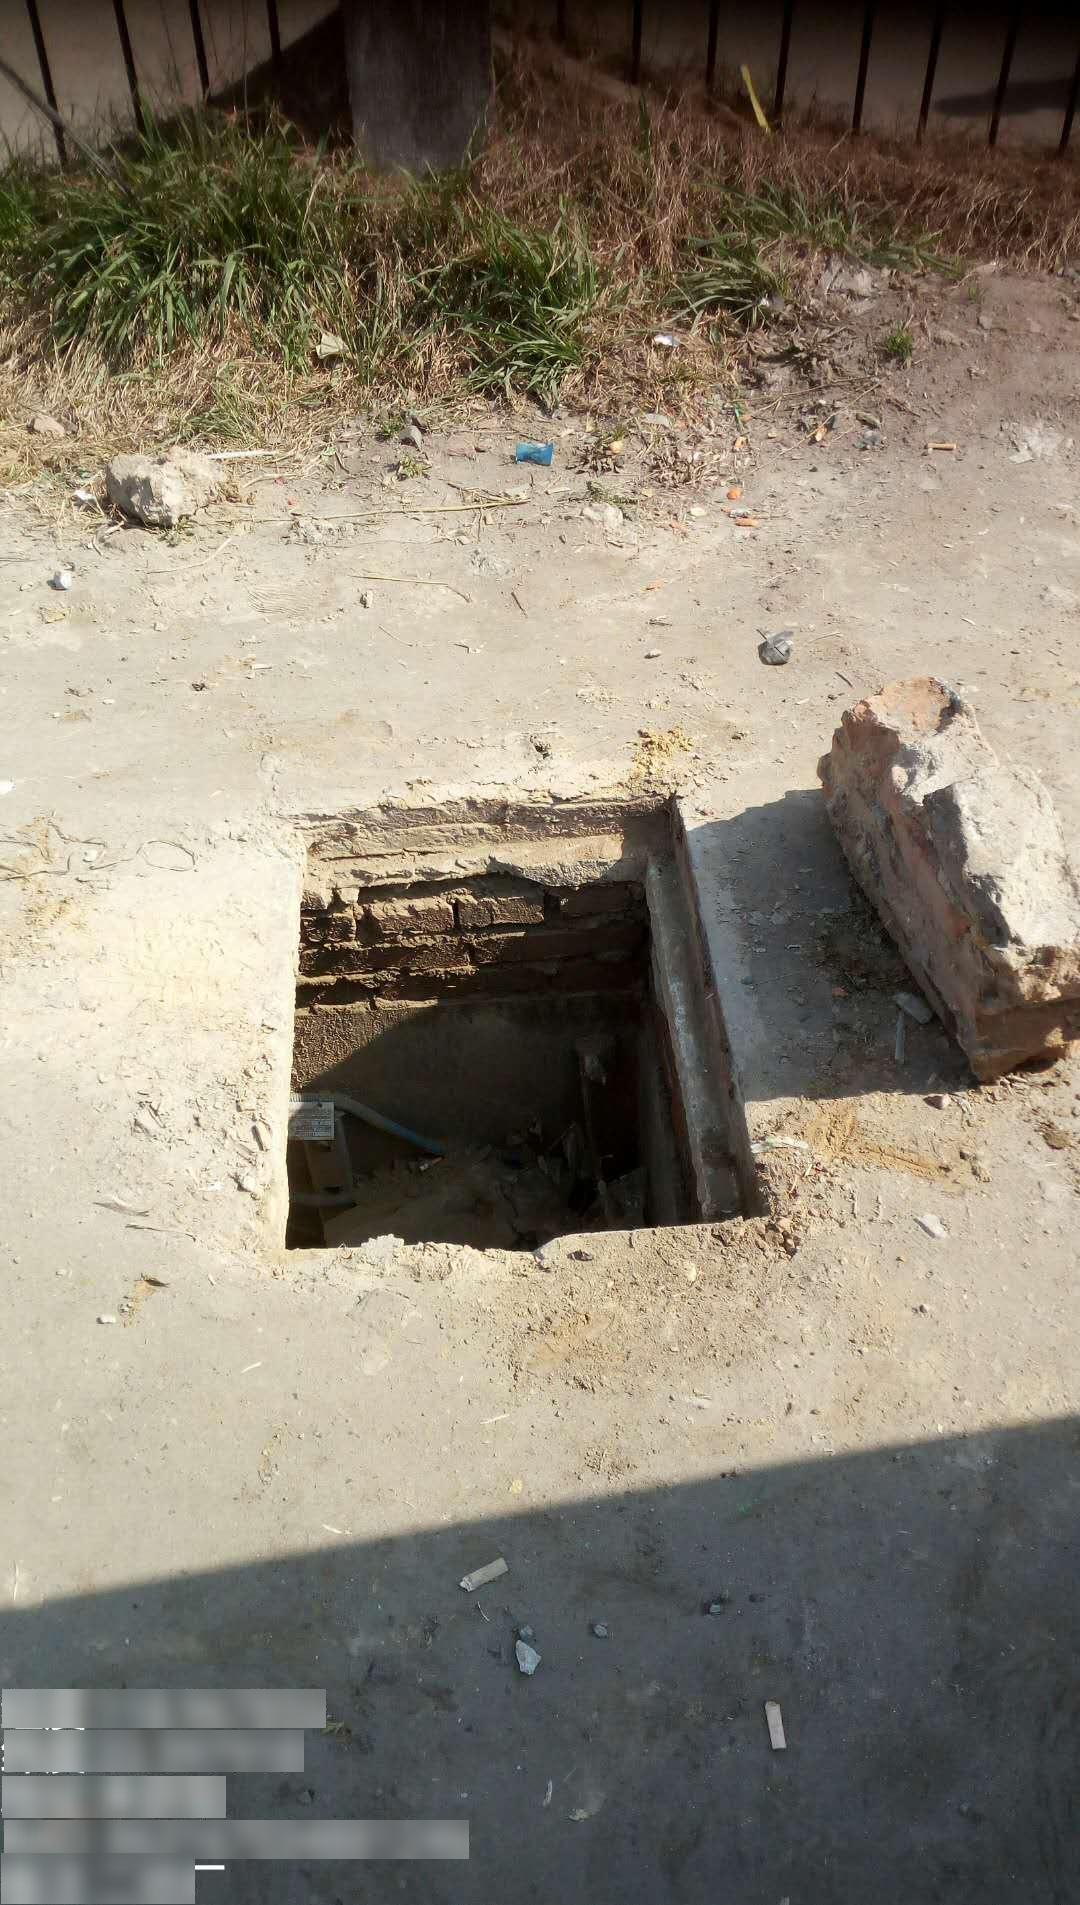well: (213, 780, 780, 1252)
